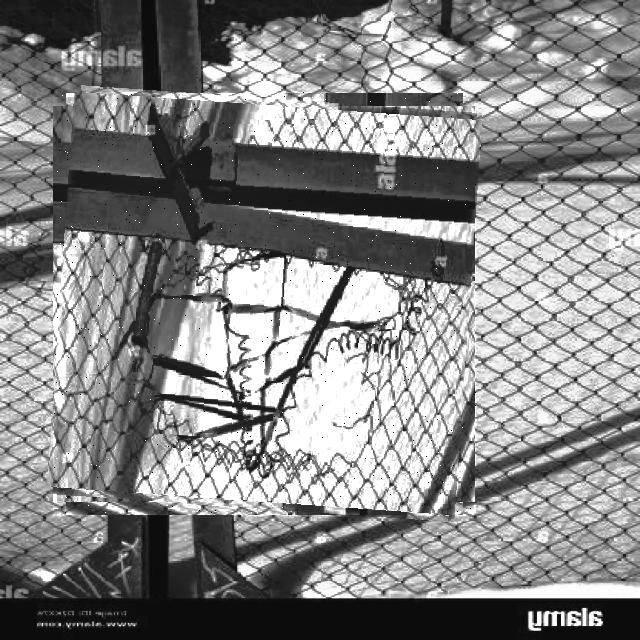anomaly-fence: (53, 92, 476, 516)
